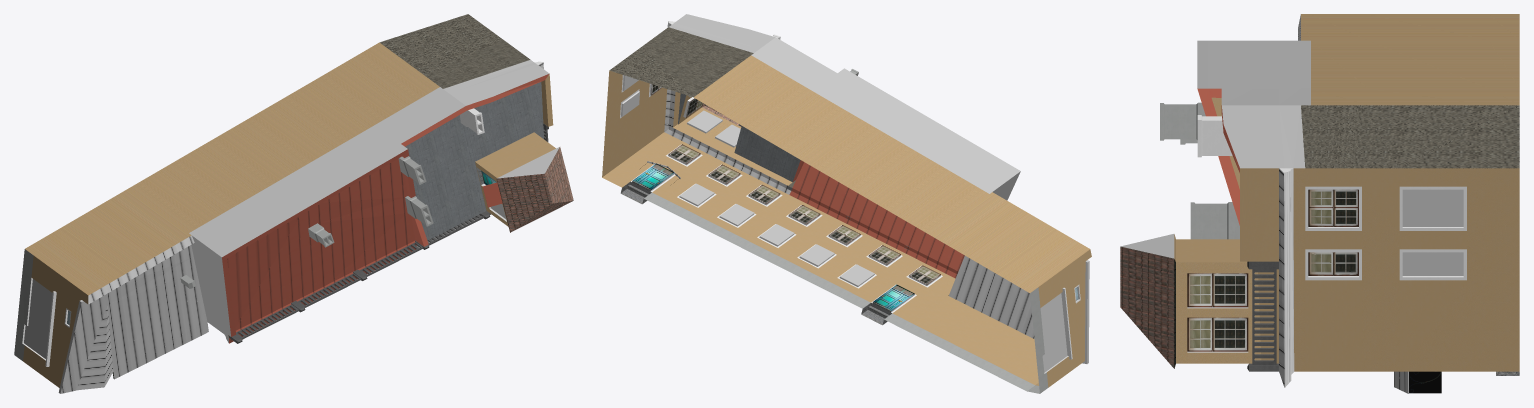
Rendered from Raekoja_plats_11.obj.
3 renders of one model, left to right at view 1: azimuth 30°, elevation 25°; view 2: azimuth 150°, elevation 25°; view 3: azimuth 270°, elevation 25°, orthographic. The views are drawn at different scales.
Parts seen in each view (by area): view 1: Raekoja_plats_11, xxx; view 2: Raekoja_plats_11, xxx; view 3: Raekoja_plats_11, xxx.
Part boxes in pixels (x1,y1,x2,y2): Raekoja_plats_11: (14, 14, 573, 393); xxx: (26, 42, 439, 292); Raekoja_plats_11: (602, 14, 1091, 393); xxx: (694, 55, 1085, 292); Raekoja_plats_11: (1120, 14, 1519, 393); xxx: (1311, 14, 1519, 105).
Size of the model in its own units: 29.28 by 13.92 by 12.53.
